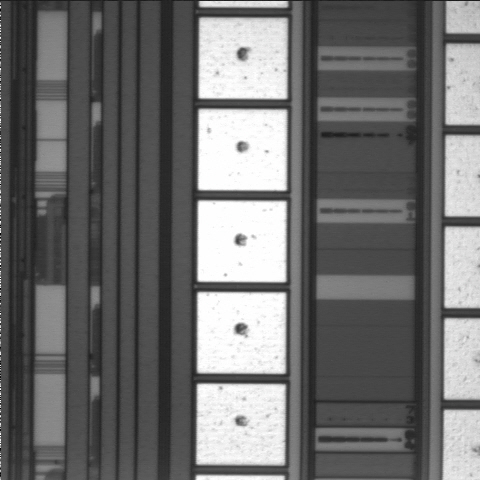pad: (197, 200, 287, 282), (198, 109, 287, 191), (197, 292, 286, 374), (196, 384, 286, 465), (199, 18, 287, 99)
